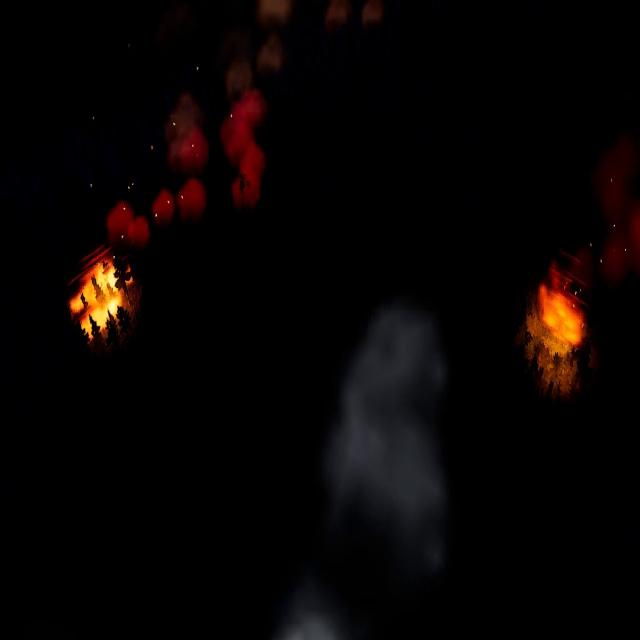fire: (536, 268, 588, 353), (70, 261, 130, 329)
smoke: (104, 4, 288, 255), (325, 301, 452, 585), (576, 131, 640, 287), (258, 603, 370, 640)
